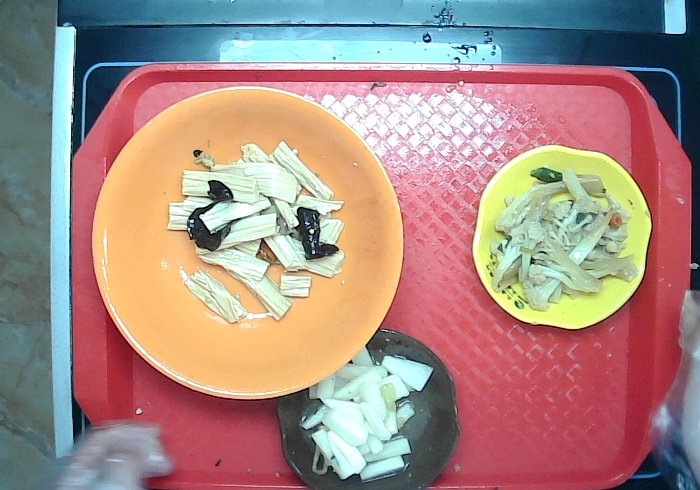YKMZ-Huang_Se_Ao_Bian_Wan: (470, 143, 652, 332)
YKMZ-Ju_Se_Tang_Wan: (90, 84, 407, 404)
YKMZ-Ka_Fei_Ao_Bian_Wan: (274, 325, 461, 490)
